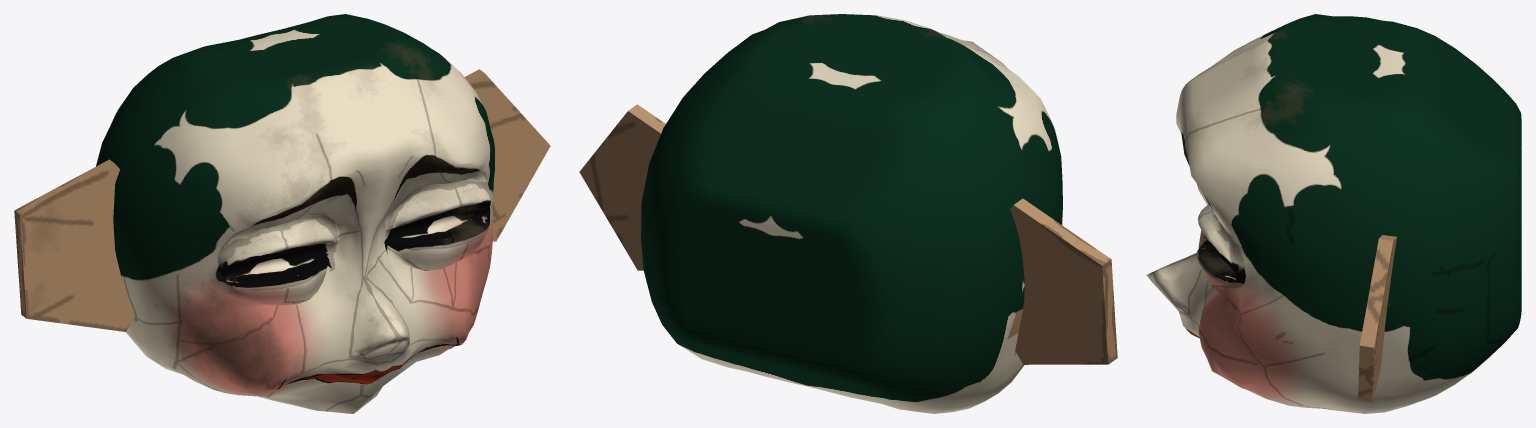
File: stage_3.fbx
3 renders of one model, left to right at view 1: azimuth 30°, elevation 25°; view 2: azimuth 150°, elevation 25°; view 3: azimuth 270°, elevation 25°, orthographic. The views are drawn at different scales.
Visible parts, largest first — view 1: stage_3, Ear, Ear1; view 2: stage_3, Ear, Ear1; view 3: stage_3, Ear1.
Boxes of the visible parts, x1=… form: stage_3: x1=96, y1=14, x2=494, y2=413; Ear: x1=14, y1=159, x2=134, y2=331; Ear1: x1=464, y1=69, x2=550, y2=241; stage_3: x1=641, y1=14, x2=1062, y2=413; Ear: x1=1010, y1=198, x2=1117, y2=364; Ear1: x1=579, y1=104, x2=665, y2=270; stage_3: x1=1146, y1=14, x2=1521, y2=413; Ear1: x1=1358, y1=235, x2=1396, y2=402.
Bounding box in the file's own units: 65.91 × 40.95 × 41.34.
